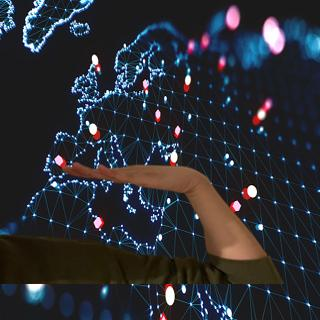WAIT: (62, 157, 204, 197)
